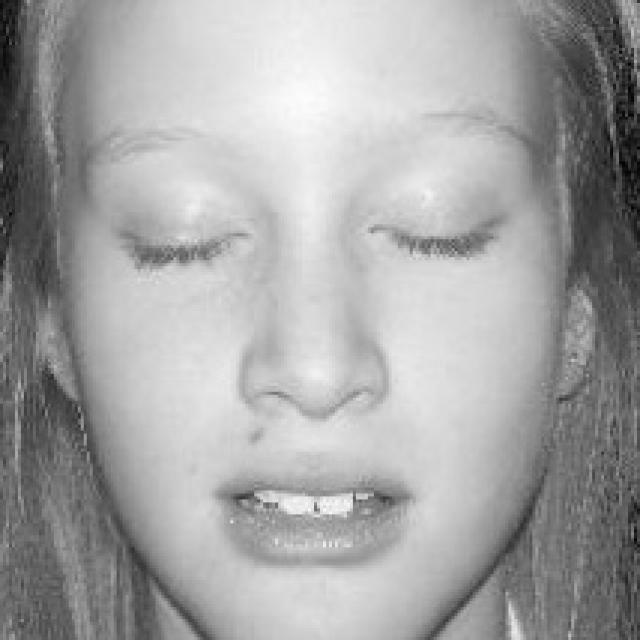real: (54, 0, 566, 637), (117, 190, 503, 290)
